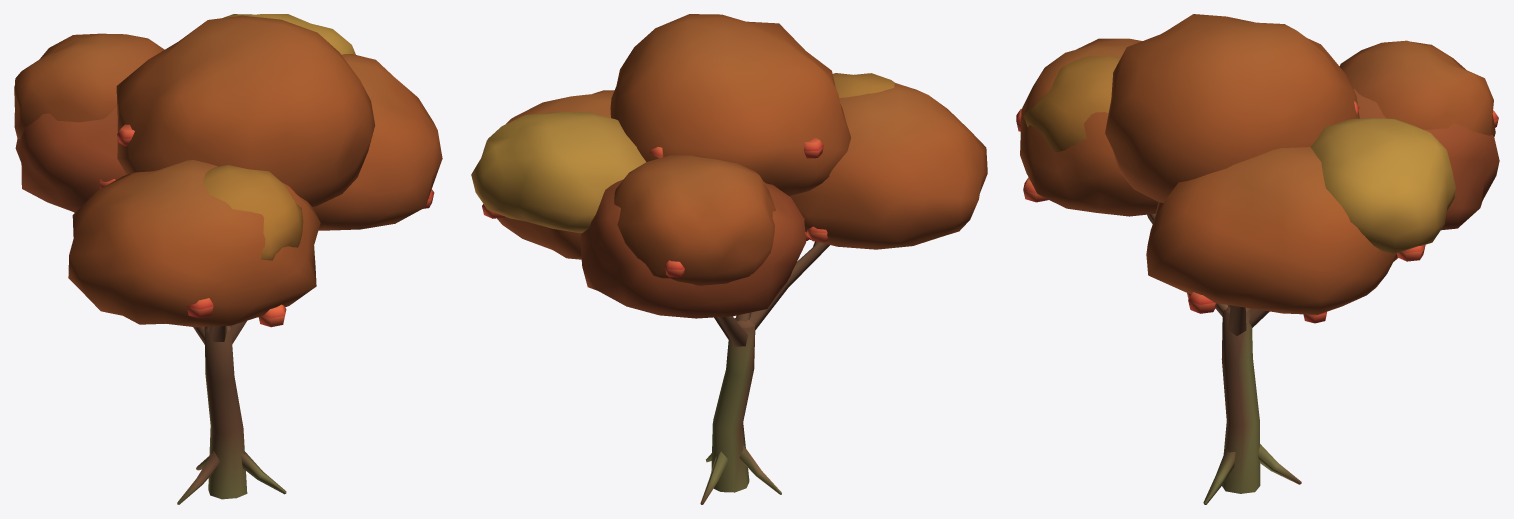
Rendered from apple_tree_young_autumn.glb.
3 renders of one model, left to right at view 1: azimuth 30°, elevation 25°; view 2: azimuth 150°, elevation 25°; view 3: azimuth 270°, elevation 25°, orthographic. The views are drawn at different scales.
Visible parts, largest first — view 1: orchard_apple_tree_young_autumn_Canopy, orchard_apple_tree_young_autumn_Trunk, orchard_apple_tree_young_autumn_Fruit; view 2: orchard_apple_tree_young_autumn_Canopy, orchard_apple_tree_young_autumn_Trunk, orchard_apple_tree_young_autumn_Fruit; view 3: orchard_apple_tree_young_autumn_Canopy, orchard_apple_tree_young_autumn_Trunk, orchard_apple_tree_young_autumn_Fruit.
Boxes of the visible parts, bbox=[...] form: orchard_apple_tree_young_autumn_Canopy: bbox=[14, 14, 442, 327]; orchard_apple_tree_young_autumn_Trunk: bbox=[177, 321, 286, 504]; orchard_apple_tree_young_autumn_Fruit: bbox=[99, 124, 434, 327]; orchard_apple_tree_young_autumn_Canopy: bbox=[471, 14, 987, 318]; orchard_apple_tree_young_autumn_Trunk: bbox=[700, 241, 829, 504]; orchard_apple_tree_young_autumn_Fruit: bbox=[482, 137, 828, 277]; orchard_apple_tree_young_autumn_Canopy: bbox=[1020, 14, 1499, 314]; orchard_apple_tree_young_autumn_Trunk: bbox=[1147, 213, 1301, 504]; orchard_apple_tree_young_autumn_Fruit: bbox=[1016, 101, 1498, 323].
Bounding box in the file's own units: 2.77 × 2.88 × 2.69.
